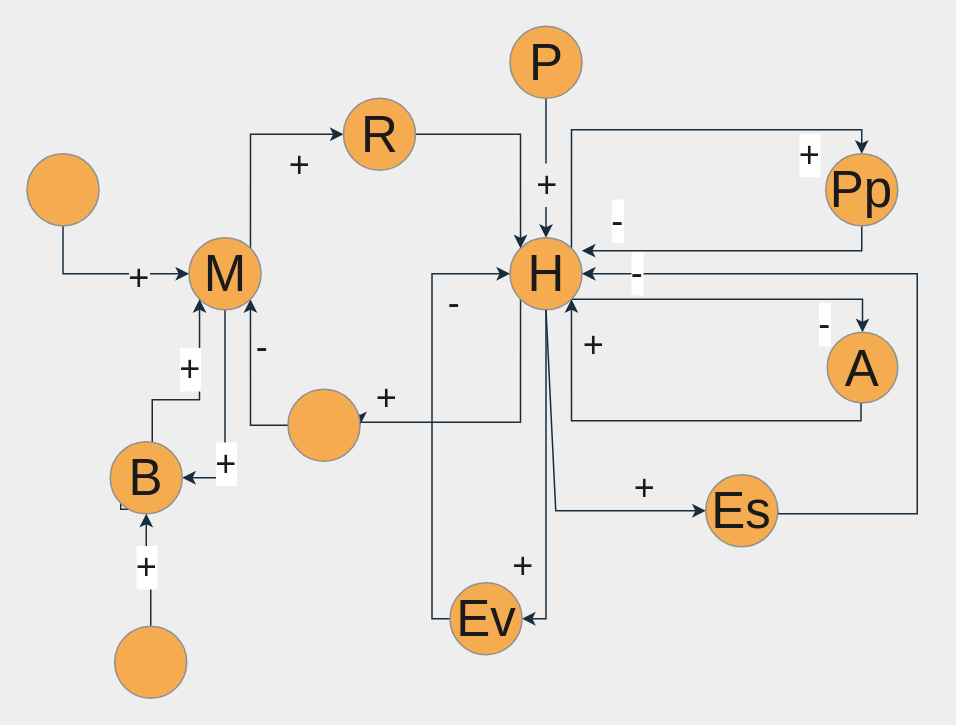
This 956x725 diagram has some shape labels left out. The centre of each missing label's shape, as x and y in pixels:
"Ref" goes at (62,189).
"Sa" goes at (150,661).
"Se" goes at (323,424).
